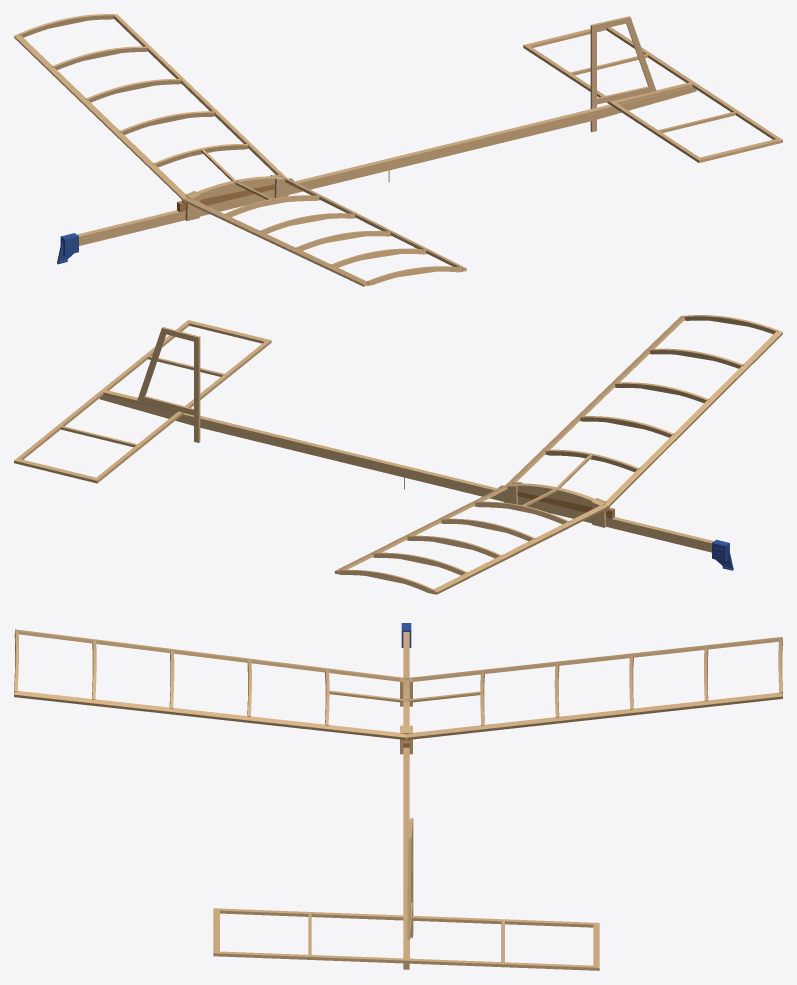
File: iltatahti_p18.glb
The picture shows the model from 3 angles, top to bottom: view 1: azimuth 30°, elevation 25°; view 2: azimuth 150°, elevation 25°; view 3: azimuth 270°, elevation 25°; orthographic projection. The views are drawn at different scales.
Parts seen in each view (by area): view 1: wing, motor_stick, stab, wing_R_le_spar, wing_R_te_spar, wing_L_le_spar, wing_L_te_spar, fin_le, wing_wedge, fin_te, pukki; view 2: wing, motor_stick, stab, wing_L_le_spar, wing_L_te_spar, wing_R_le_spar, wing_R_te_spar, fin_le, wing_wedge, fin_te; view 3: stab, wing, wing_L_te_spar, wing_R_te_spar, wing_L_le_spar, wing_R_le_spar, motor_stick.
Boxes of the visible parts, x1=… form: wing: x1=19, y1=14, x2=463, y2=285; motor_stick: x1=77, y1=87, x2=696, y2=245; stab: x1=523, y1=27, x2=782, y2=162; wing_R_le_spar: x1=14, y1=34, x2=187, y2=201; wing_R_te_spar: x1=113, y1=14, x2=286, y2=177; wing_L_le_spar: x1=184, y1=198, x2=367, y2=286; wing_L_te_spar: x1=283, y1=178, x2=466, y2=271; fin_le: x1=590, y1=24, x2=598, y2=131; wing_wedge: x1=177, y1=178, x2=293, y2=211; fin_te: x1=626, y1=18, x2=656, y2=91; pukki: x1=57, y1=233, x2=78, y2=264; wing: x1=337, y1=315, x2=777, y2=594; motor_stick: x1=99, y1=395, x2=722, y2=552; stab: x1=14, y1=320, x2=271, y2=483; wing_L_le_spar: x1=604, y1=330, x2=782, y2=508; wing_L_te_spar: x1=506, y1=315, x2=684, y2=484; wing_R_le_spar: x1=432, y1=504, x2=607, y2=594; wing_R_te_spar: x1=334, y1=485, x2=508, y2=573; fin_le: x1=193, y1=336, x2=200, y2=442; wing_wedge: x1=498, y1=485, x2=614, y2=518; fin_te: x1=137, y1=330, x2=166, y2=400; stab: x1=213, y1=908, x2=599, y2=970; wing: x1=14, y1=631, x2=782, y2=754; wing_L_te_spar: x1=14, y1=691, x2=406, y2=739; wing_R_te_spar: x1=406, y1=692, x2=782, y2=739; wing_L_le_spar: x1=15, y1=629, x2=406, y2=681; wing_R_le_spar: x1=406, y1=637, x2=782, y2=681; motor_stick: x1=403, y1=632, x2=409, y2=969.
Bounding box in the file's own units: 0.502 × 0.0801 × 0.4772.
